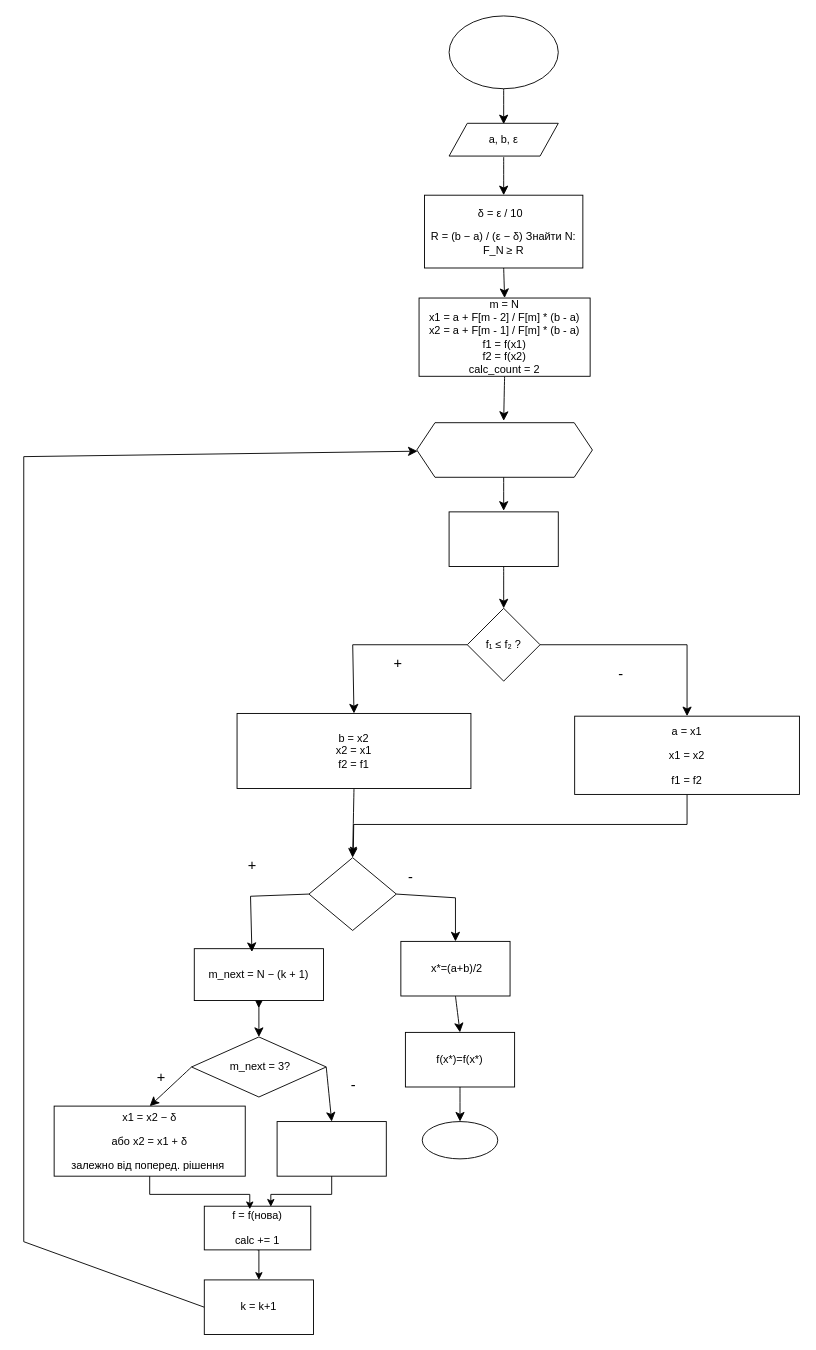
Some shapes in this 816 by 1350 pixel diagram are drawn without their labels. Each missing label, with the centre of its shape:
"k < N−3 ?" goes at [352,893].
"k = 0, 1, …, N−3" goes at [504,449].
"m = N − k" goes at [503,538].
"start" goes at [503,52].
"stop" goes at [459,1140].
"нова точка за формулою F[m_next]" goes at [331,1148].
